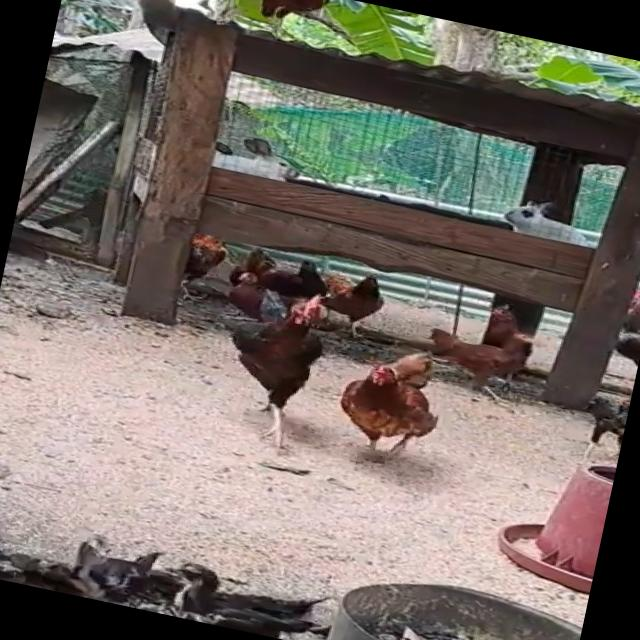running: (194, 277, 354, 461), (324, 333, 482, 477)
